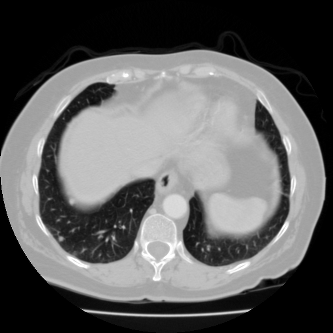nodule: (59, 237, 63, 241)
